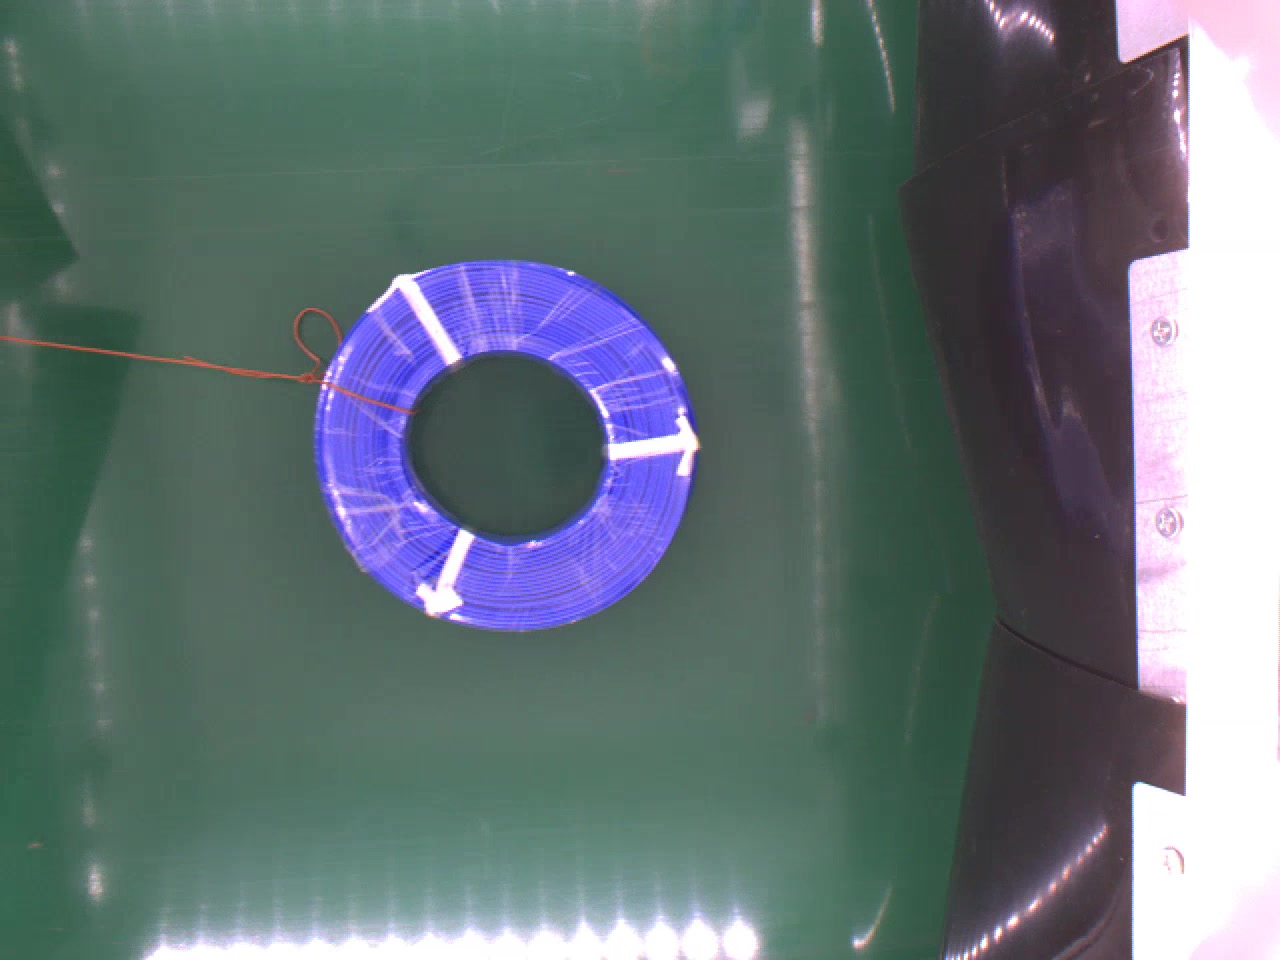blue: (307, 253, 702, 633)
